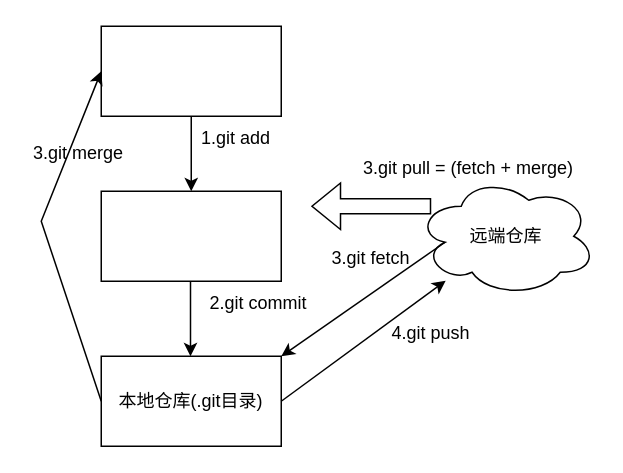
Image size: 623x473. Some labels were removed from this diagram. The shapes that lost their labels are listed below. From the top down, each one's centre as x and y in pixels, then its label:
point 190,70: 本地工作区(写代码)
point 190,235: 缓存区(index)
